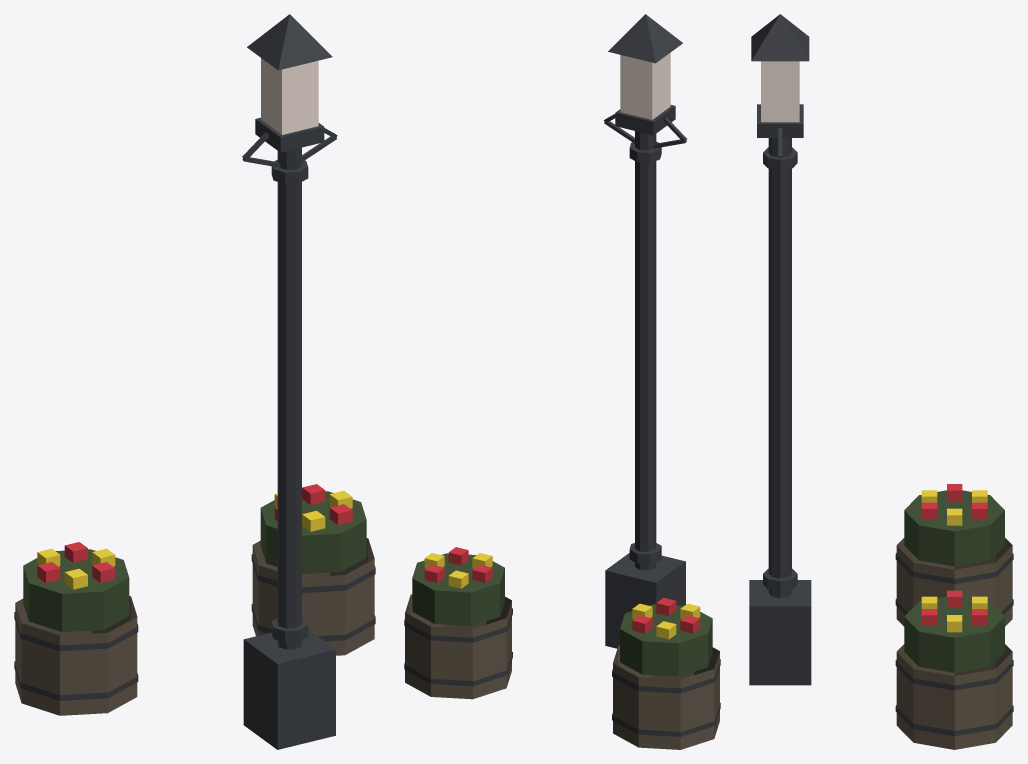
File: entrance_close.fbx
The picture shows the model from 3 angles, left to right: view 1: azimuth 30°, elevation 25°; view 2: azimuth 150°, elevation 25°; view 3: azimuth 270°, elevation 25°; orthographic projection. The views are drawn at different scales.
Parts seen in each view (by area): view 1: a2003/700/entrance_close; view 2: a2003/700/entrance_close; view 3: a2003/700/entrance_close.
Part boxes in pixels (<box>): a2003/700/entrance_close: <box>14,14,375,749</box>; a2003/700/entrance_close: <box>404,14,720,749</box>; a2003/700/entrance_close: <box>749,14,1013,749</box>.
Bounding box in the file's own units: 1.91 × 3.75 × 1.37.
